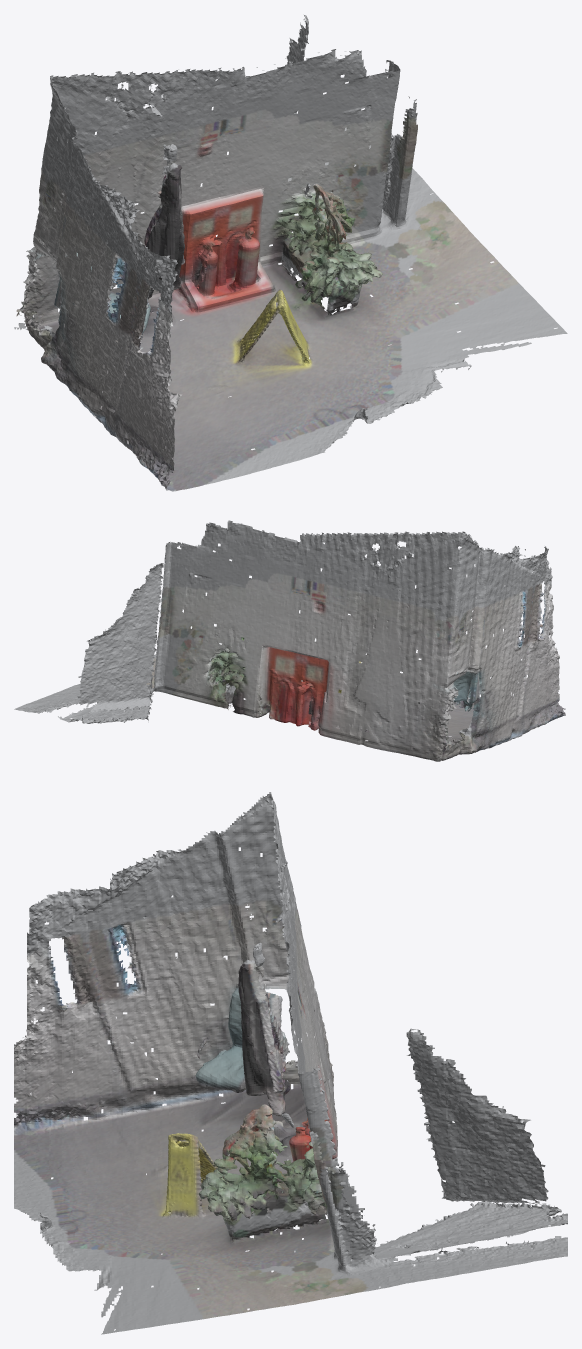
Rendered from 7Scenes_Fire.glb.
3 views of the same model, one above another, from view 1: azimuth 30°, elevation 25°; view 2: azimuth 150°, elevation 25°; view 3: azimuth 270°, elevation 25° (orthographic). The views are drawn at different scales.
Parts seen in each view (by area): view 1: geometry_0; view 2: geometry_0; view 3: geometry_0.
Part boxes in pixels (x1,y1,x2,y2): geometry_0: (14,15,567,491); geometry_0: (14,520,565,761); geometry_0: (14,792,567,1334).
Size of the model in its own units: 3.94 by 2.72 by 3.97.
